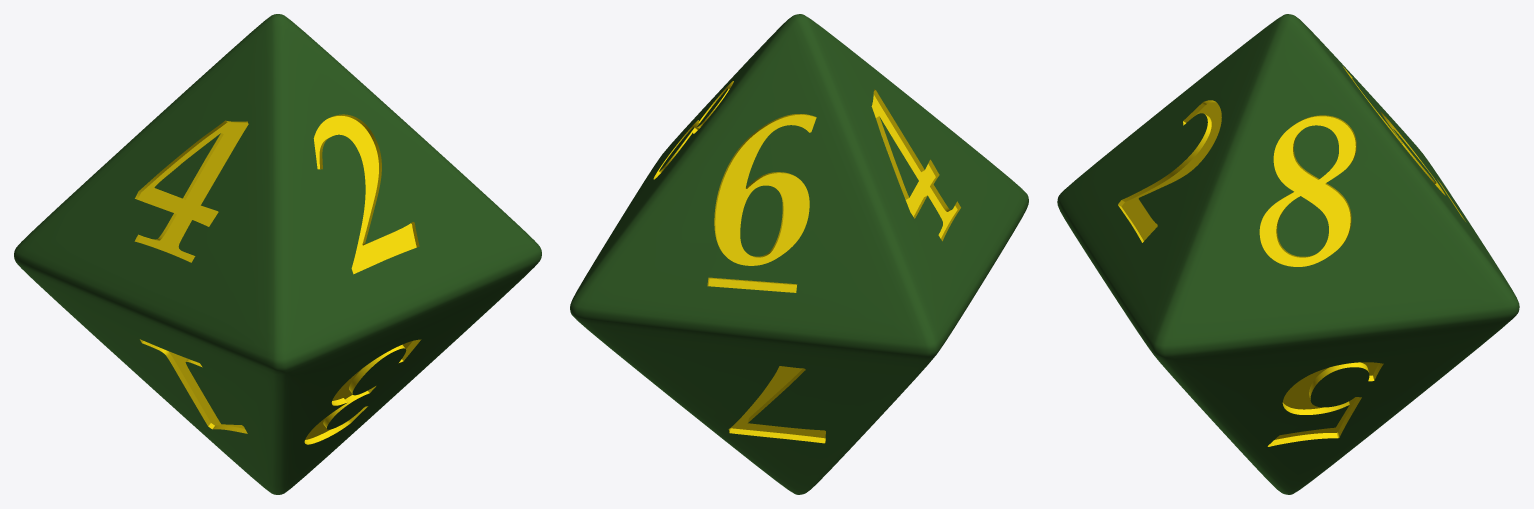
The picture shows the model from 3 angles, left to right: view 1: azimuth 30°, elevation 25°; view 2: azimuth 150°, elevation 25°; view 3: azimuth 270°, elevation 25°; orthographic projection.
Parts seen in each view (by area): view 1: D8; view 2: D8; view 3: D8.
Boxes of the visible parts, x1,y1,x2,y2 form: D8: [14, 14, 541, 494]; D8: [570, 14, 1028, 494]; D8: [1057, 14, 1519, 494].
Size of what is drawn, in the model's own units: 0.2945 by 0.3362 by 0.2945.
